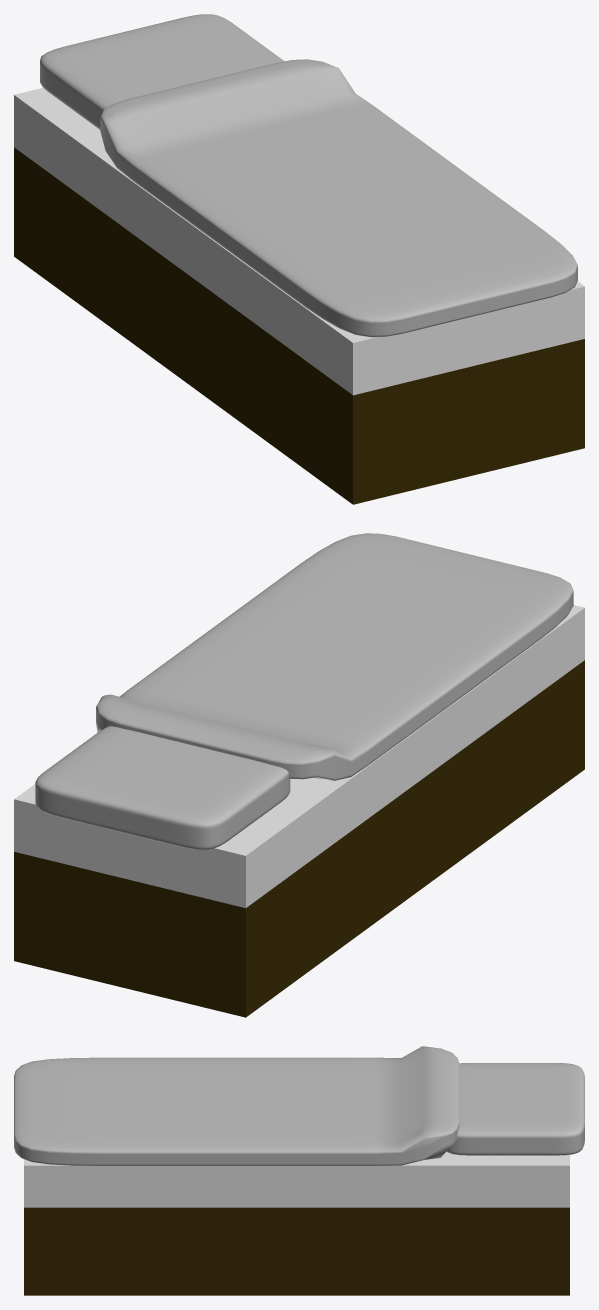
Rendered from Bed.fbx.
3 renders of one model, top to bottom at view 1: azimuth 30°, elevation 25°; view 2: azimuth 150°, elevation 25°; view 3: azimuth 270°, elevation 25°, orthographic. The views are drawn at different scales.
Visible parts, largest first — view 1: pCube1, pCube3, pCube2; view 2: pCube1, pCube3, pCube2; view 3: pCube1, pCube3, pCube2.
Part boxes in pixels (bbox=[...]): pCube1: bbox=[14, 88, 584, 504]; pCube3: bbox=[100, 59, 577, 337]; pCube2: bbox=[40, 14, 283, 129]; pCube1: bbox=[14, 605, 584, 1017]; pCube3: bbox=[96, 533, 573, 780]; pCube2: bbox=[35, 726, 290, 849]; pCube1: bbox=[24, 1151, 569, 1295]; pCube3: bbox=[14, 1046, 459, 1165]; pCube2: bbox=[446, 1063, 584, 1155].
Bounding box in the file's own units: 78.04 × 61.98 × 199.
